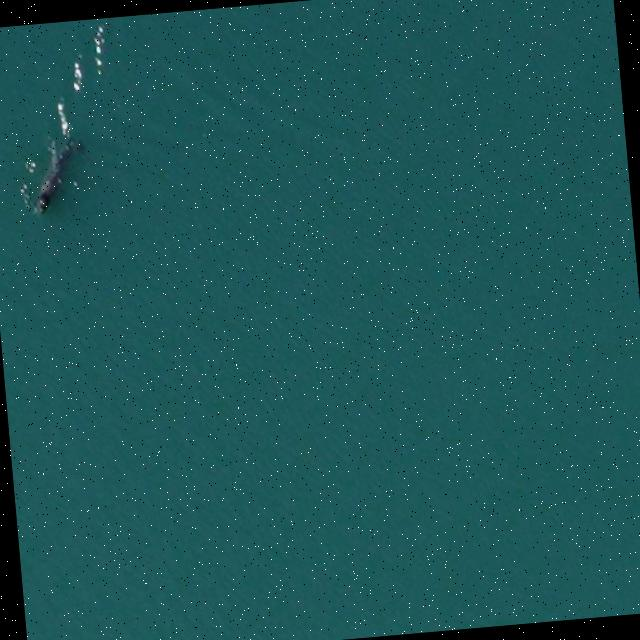seal: (22, 130, 89, 219)
